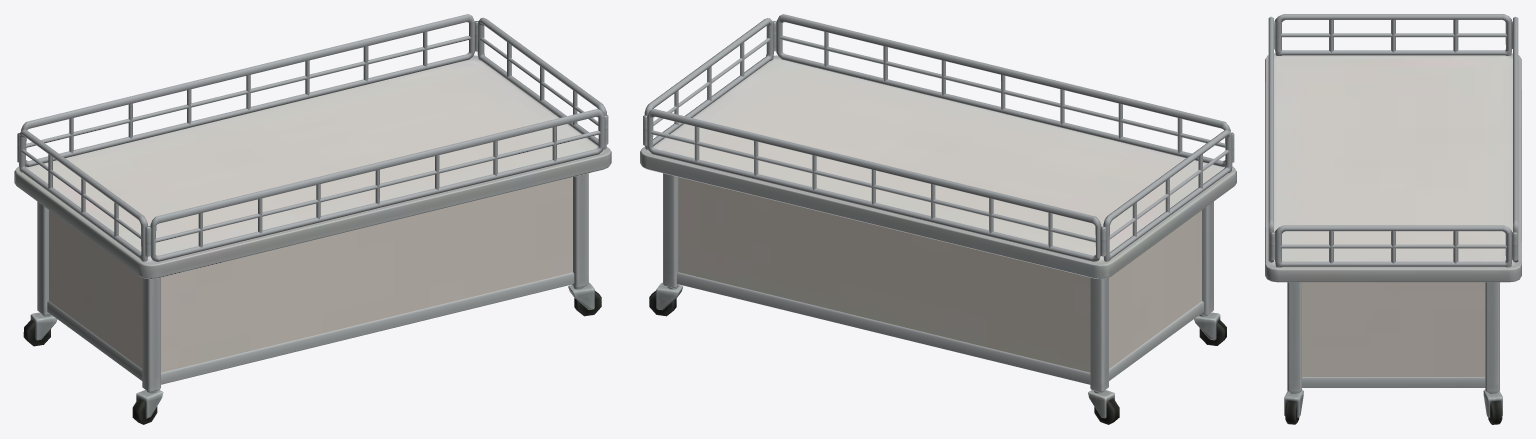
3 views of the same model, side by side, from view 1: azimuth 30°, elevation 25°; view 2: azimuth 150°, elevation 25°; view 3: azimuth 270°, elevation 25° (orthographic). The views are drawn at different scales.
Bounding box in the file's own units: 19.99 × 8.67 × 9.99.
Materials: 1 (1 with a texture image).
